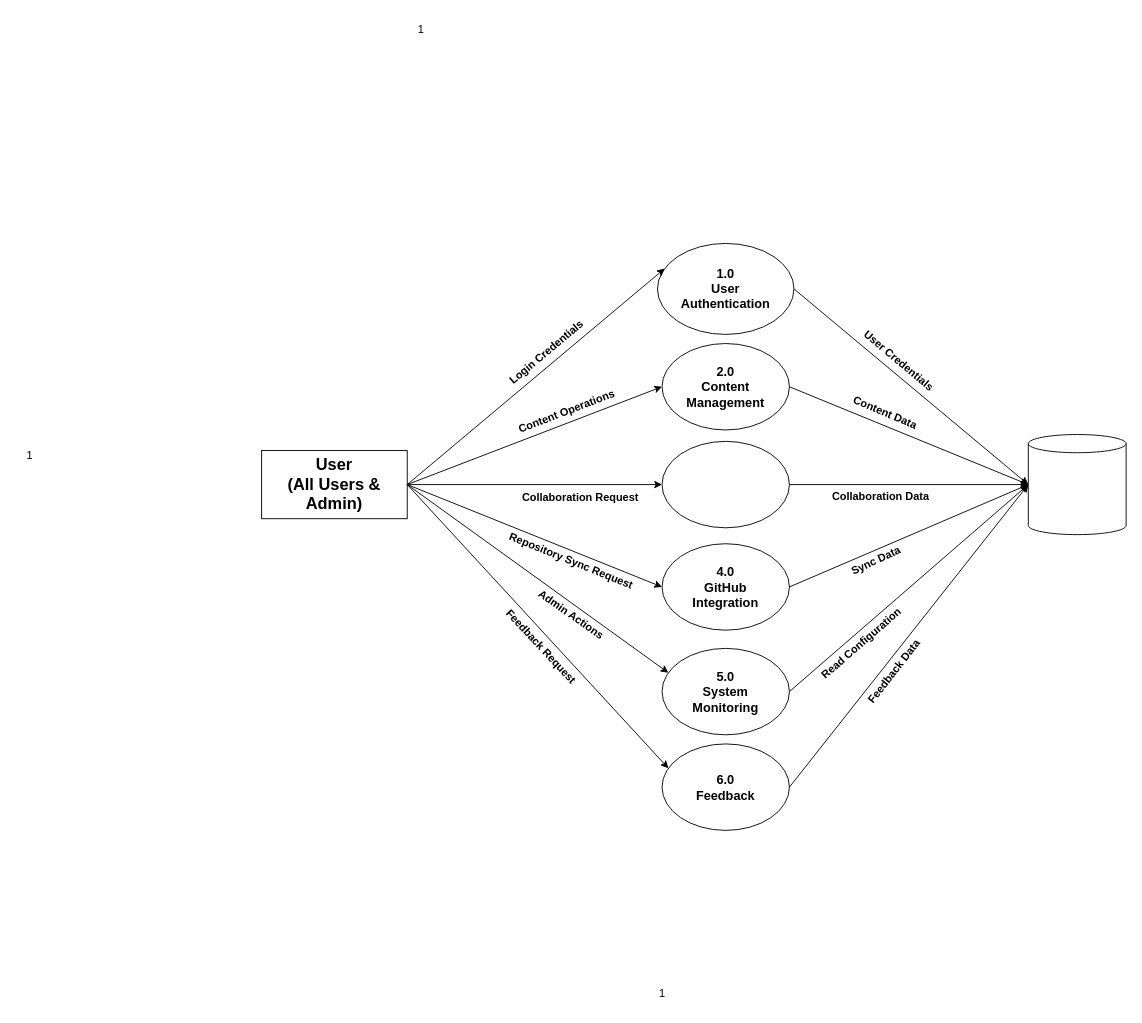
This 1142x1023 diagram has some shape labels left out. The shapes that lost their labels are listed below. From the top down, each one's centre as x and y in pixels, then its label:
At (725,484): "3.0 Team Collaboration".
At (1076,484): "DocHub Database".
